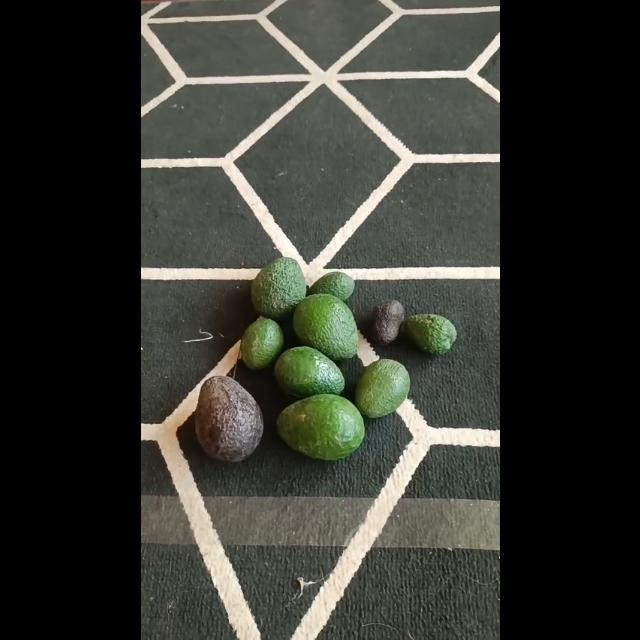Primera: (193, 375, 263, 461), (275, 393, 363, 459), (291, 293, 357, 359), (250, 256, 304, 318)
Segunda: (272, 346, 344, 398), (354, 358, 410, 418)
Tercera: (238, 316, 282, 370), (404, 314, 456, 354), (370, 300, 404, 344), (309, 270, 355, 302)
